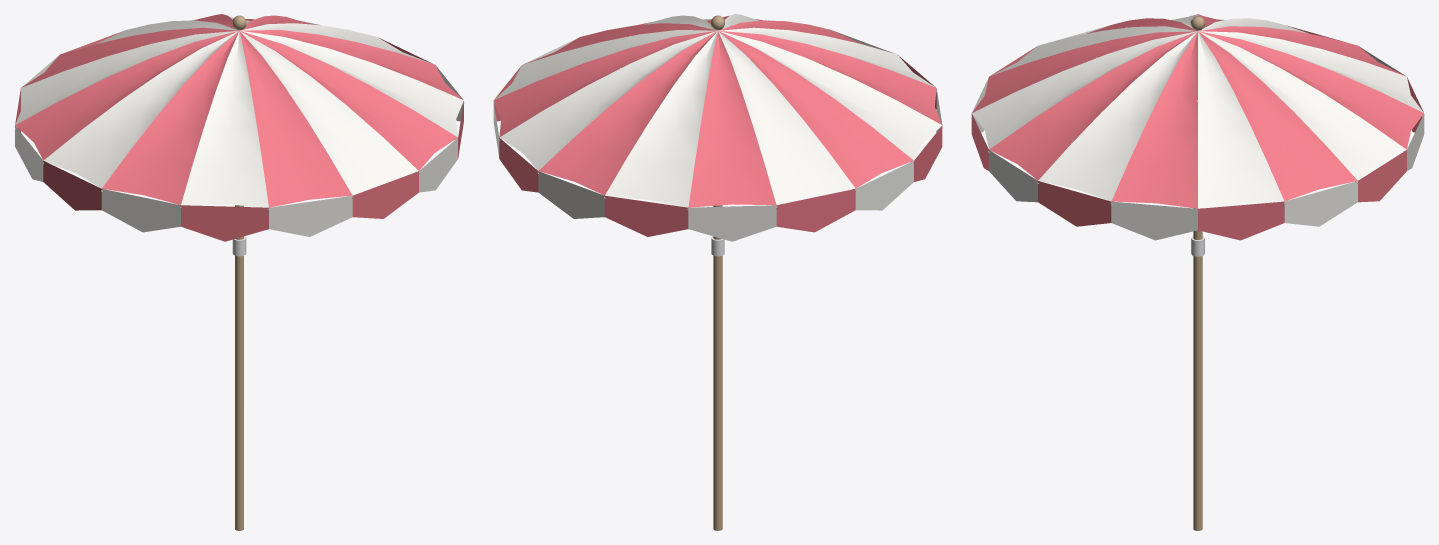
Rendered from prop_parasol.glb.
3 views of the same model, side by side, from view 1: azimuth 30°, elevation 25°; view 2: azimuth 150°, elevation 25°; view 3: azimuth 270°, elevation 25° (orthographic).
Visible parts, largest first — view 1: Parasol; view 2: Parasol; view 3: Parasol.
Boxes of the visible parts, x1,y1,x2,y2 form: Parasol: (14,14,464,530); Parasol: (493,14,942,530); Parasol: (971,14,1424,530).
Size of the model in its own units: 2.1 by 2.62 by 2.1.
